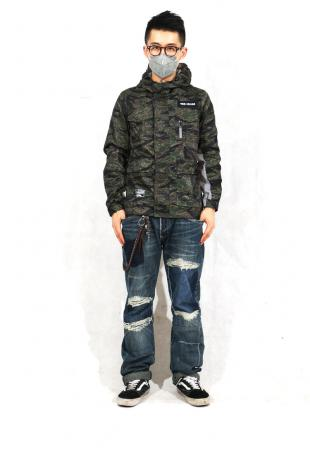face_mask: (147, 28, 179, 80)
